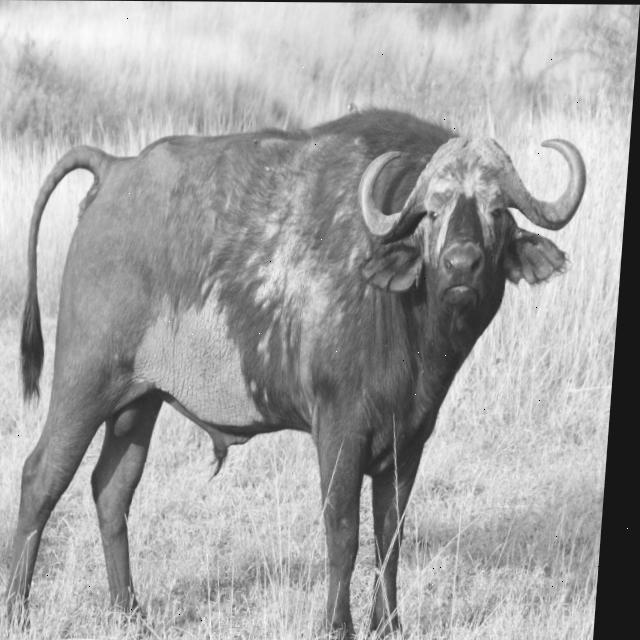Buffalo: (1, 106, 594, 640)
